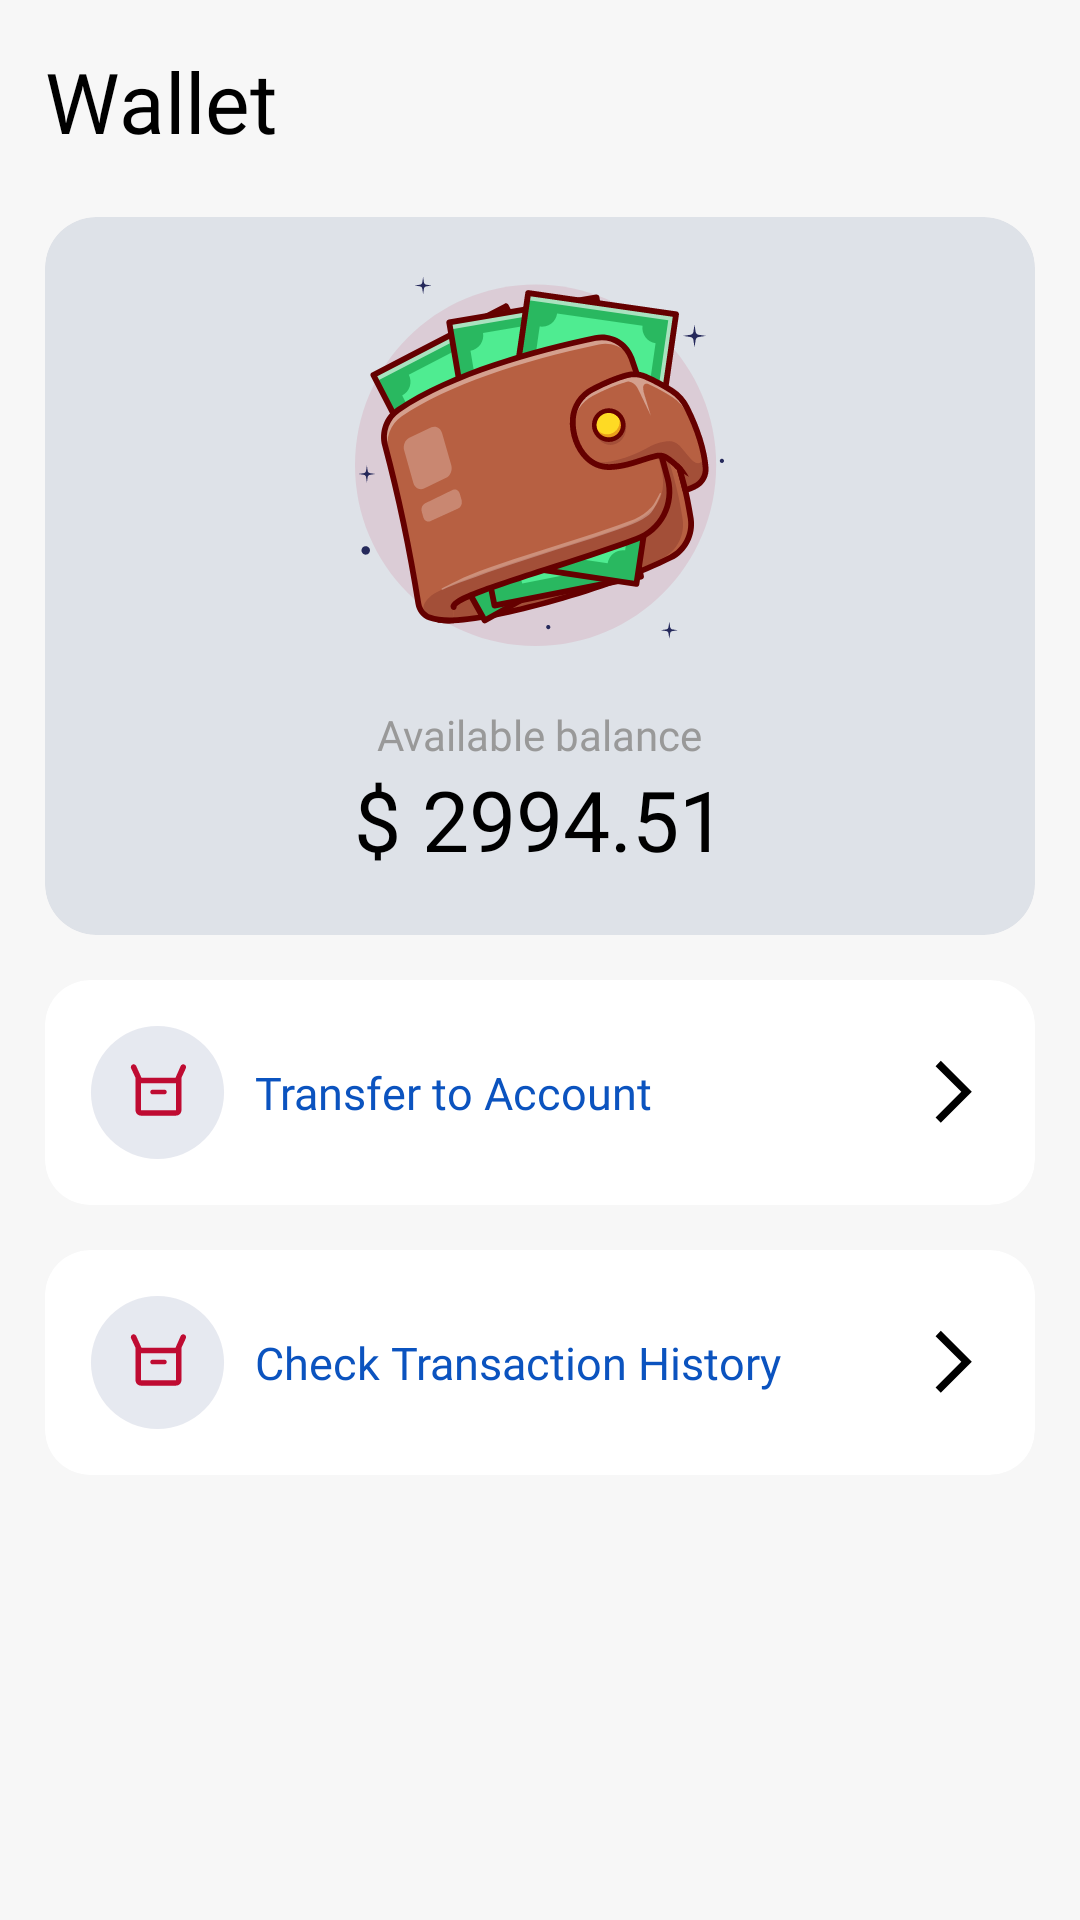

Where icons sit on this 1080w x 1920h app screen, as bbox(x1, y1, x2, y2):
paket klein: bbox(91, 1026, 224, 1159), bbox(91, 1296, 224, 1429)
right: bbox(935, 1061, 972, 1123), bbox(935, 1331, 972, 1393)
